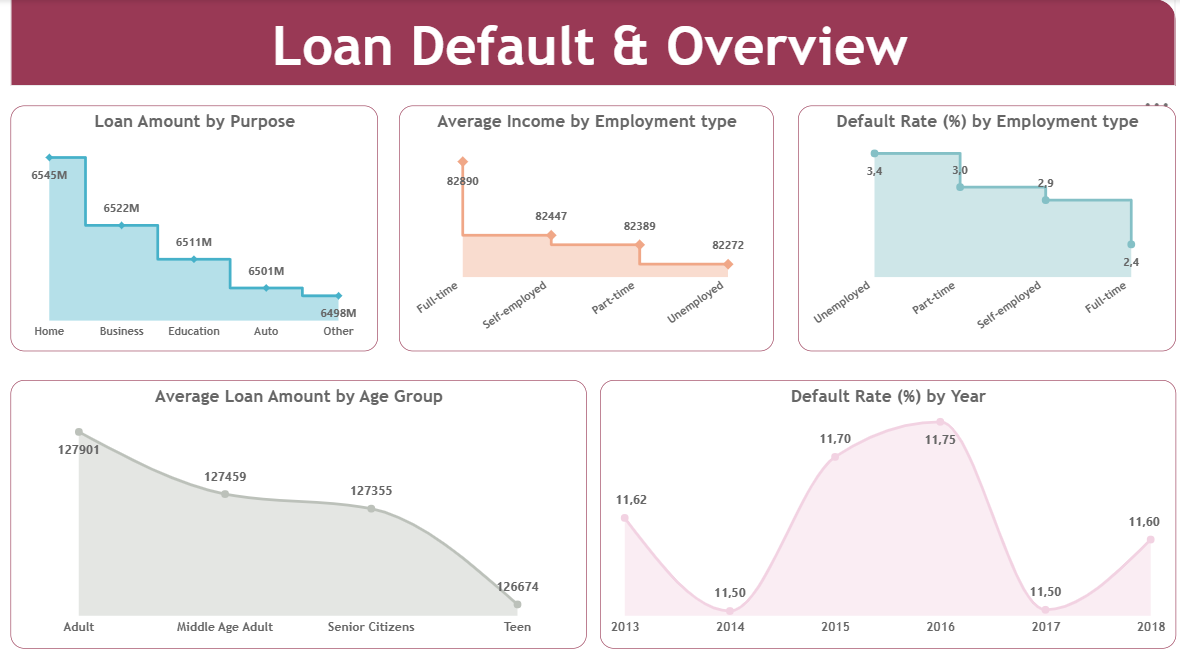

The page's visual inventory and layout, read from the dashboard file:
{"tool":"powerbi","page":{"name":"Loan Default & Overview","canvas":[1280,720],"ordinal":0},"visuals":[{"type":"shape","box":[11.3,0,1258.1,93.9],"z":0},{"type":"lineChart","title":"Loan Amount by Purpose ","fields":{"Y":["Mesaures Table 1.Loan Amount by Purpose"],"Category":["Loan_default.LoanPurpose"]},"box":[11.3,115,396.7,265.6],"z":1000},{"type":"lineChart","title":"Average Income by Employment type ","fields":{"Y":["Mesaures Table 1.Average Income By Employement type"],"Category":["Loan_default.EmploymentType"]},"box":[430.7,115,404.8,265.6],"z":2000},{"type":"lineChart","title":"Default Rate (%) by Employment type ","fields":{"Y":["Mesaures Table 1.Default Rate by Employment Type"],"Category":["Loan_default.EmploymentType"]},"box":[861.4,115,408,265.6],"z":3000},{"type":"lineChart","title":"Average Loan Amount by Age Group ","fields":{"Y":["Mesaures Table 1.Average Loan by Age Group"],"Category":["Loan_default.Age Groups"]},"box":[11.3,411.3,621.8,289.8],"z":4000},{"type":"lineChart","title":"Default Rate (%) by Year","fields":{"Y":["Mesaures Table 1.Default Rate by Year"],"Category":["Loan_default.Year"]},"box":[647.7,411.3,621.8,289.8],"z":5000}]}

Visuals, with their boxes in screenshot pixels (x1, y1, x2, y2), scaled from the page's 1280x720 canvas onto the 1180x656 screenshot:
shape: x1=10 y1=0 x2=1170 y2=86
"Loan Amount by Purpose " lineChart: x1=10 y1=105 x2=376 y2=347
"Average Income by Employment type " lineChart: x1=397 y1=105 x2=770 y2=347
"Default Rate (%) by Employment type " lineChart: x1=794 y1=105 x2=1170 y2=347
"Average Loan Amount by Age Group " lineChart: x1=10 y1=375 x2=584 y2=639
"Default Rate (%) by Year" lineChart: x1=597 y1=375 x2=1170 y2=639
